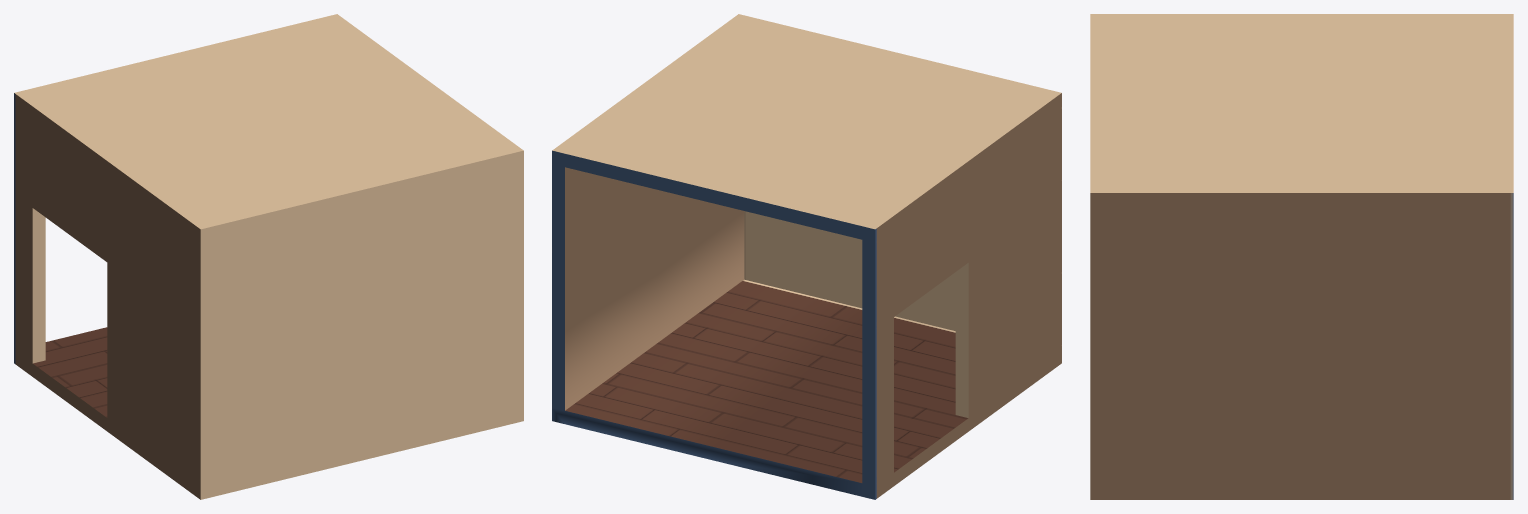
The model's file is RoomSIngle.fbx.
3 views of the same model, side by side, from view 1: azimuth 30°, elevation 25°; view 2: azimuth 150°, elevation 25°; view 3: azimuth 270°, elevation 25° (orthographic). The views are drawn at different scales.
Parts seen in each view (by area): view 1: Object; view 2: Object; view 3: Object.
Part boxes in pixels (left/top/right/bottom): Object: left=14, top=14, right=523, bottom=499; Object: left=552, top=14, right=1061, bottom=499; Object: left=1090, top=14, right=1513, bottom=499.
Size of the model in its own units: 500 by 400 by 500.
